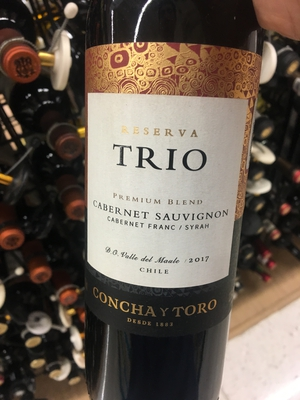trio cabernet sauvignon: (69, 17, 263, 400)
